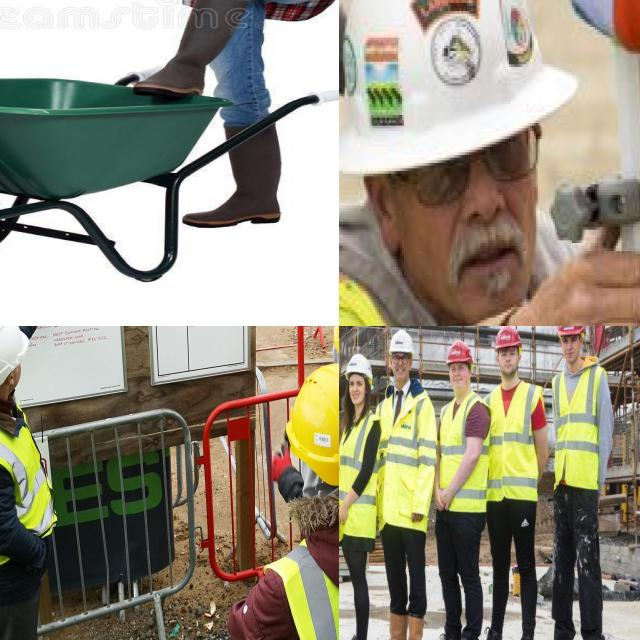boots: (180, 113, 297, 230), (126, 0, 257, 98), (368, 608, 408, 640), (402, 615, 426, 640)
face_nomask: (404, 134, 543, 312), (562, 334, 582, 372), (392, 352, 414, 386), (499, 348, 521, 380), (448, 366, 472, 394), (348, 372, 368, 404)
glasses: (406, 120, 549, 208), (390, 354, 412, 366)
hand_glove: (555, 0, 640, 51)
hand_noglove: (560, 240, 640, 326), (432, 486, 458, 516), (339, 489, 354, 529)
head_helmet: (339, 0, 581, 157), (285, 362, 339, 488), (0, 326, 31, 388), (346, 352, 373, 382), (388, 328, 412, 356), (494, 326, 520, 351), (447, 340, 472, 363), (557, 326, 584, 336)
person: (339, 0, 604, 326), (130, 0, 339, 246), (236, 363, 339, 640), (549, 326, 612, 640), (484, 326, 547, 640), (0, 326, 62, 640), (380, 330, 434, 640), (437, 341, 488, 640), (339, 351, 378, 640)
shoes: (473, 621, 507, 640), (424, 624, 464, 640), (448, 627, 480, 640)
vest: (0, 377, 57, 571), (279, 503, 339, 640), (484, 376, 543, 507), (550, 356, 604, 494), (375, 386, 437, 488), (440, 392, 490, 516), (339, 406, 377, 543)
